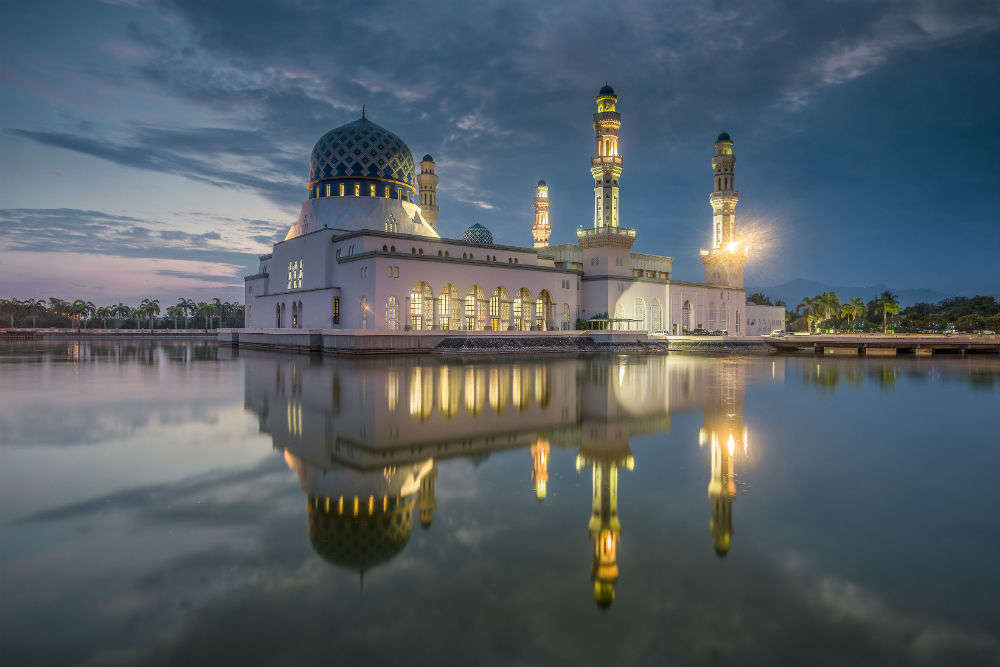Mosque: (255, 70, 790, 335)
